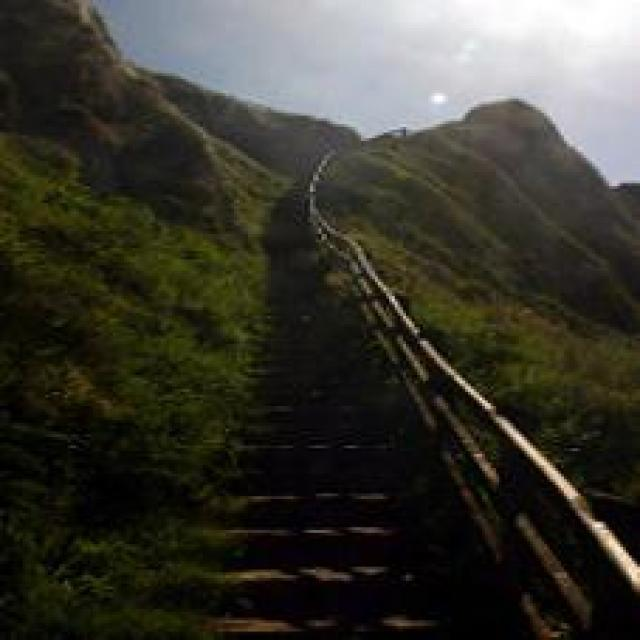stair: (209, 361, 477, 634)
